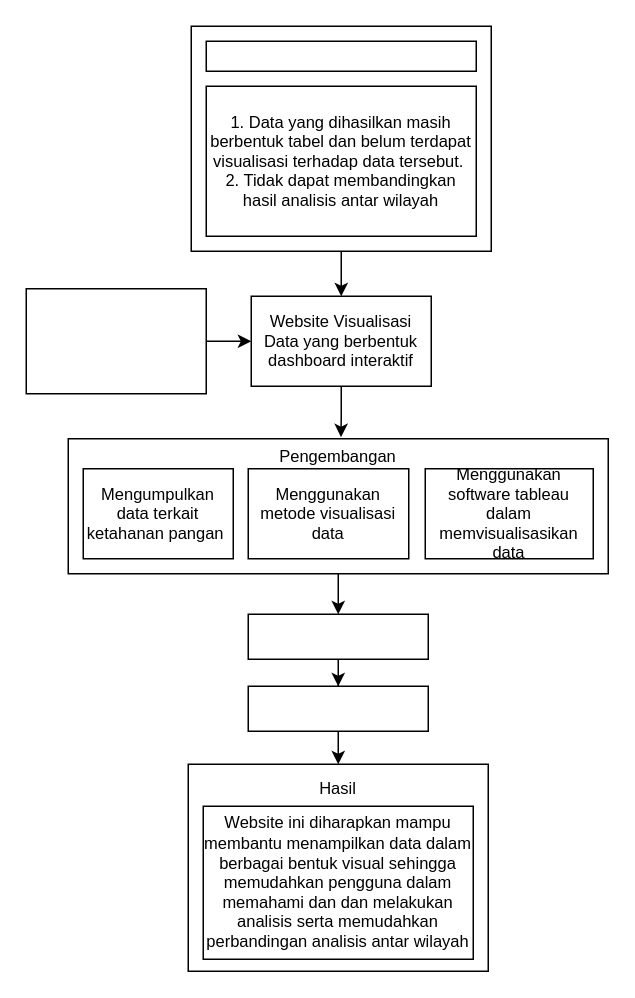
The diagram is 635 pixels wide and 998 high, and some of its shapes have lost their labels. Here are the shapes that lost their labels. From the top down, the centre of each, then its label:
At pixel 340 55: "Problem".
At pixel 115 340: "Belum terdapat tempat yang dapat memvisualisasikan data-data tersebut".
At pixel 337 636: "Pengolahan Data".
At pixel 337 708: "Pengujian".
